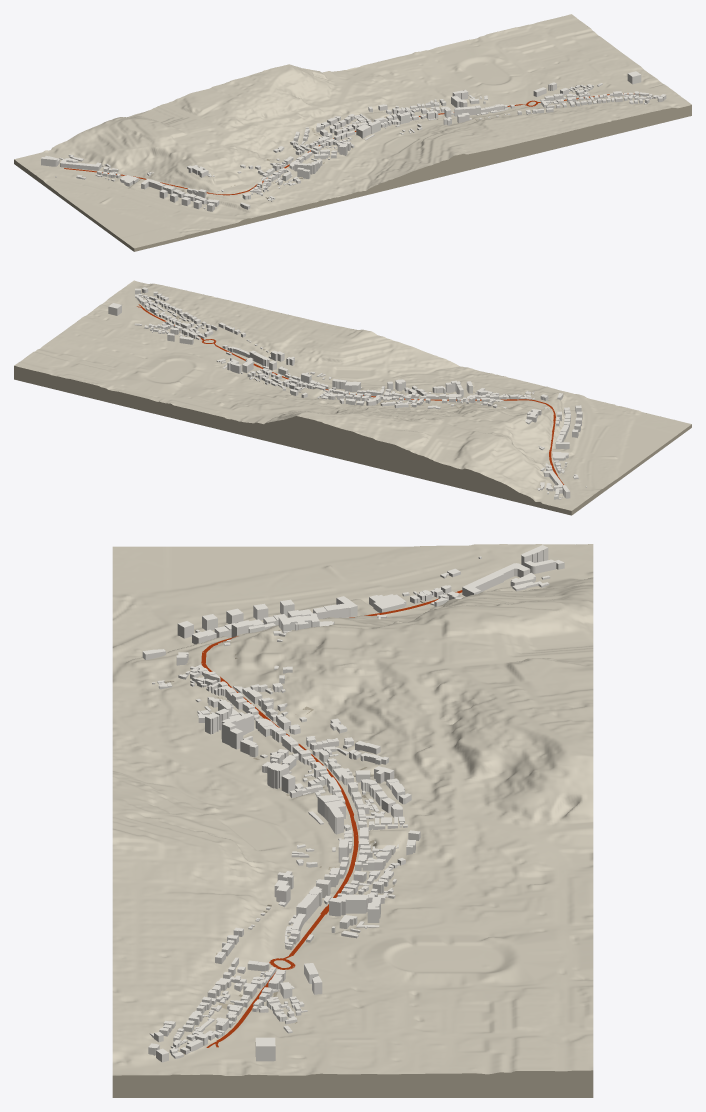
File: rua-do-brasil.glb
3 renders of one model, top to bottom at view 1: azimuth 30°, elevation 25°; view 2: azimuth 150°, elevation 25°; view 3: azimuth 270°, elevation 25°, orthographic. The views are drawn at different scales.
Visible parts, largest first — view 1: Terreno, Edif_medida, Base; view 2: Terreno, Base, Edif_medida, Via; view 3: Terreno, Edif_medida, Base, Via.
Part boxes in pixels (left/top/right/bottom): Terreno: left=14, top=14, right=691, bottom=248; Edif_medida: left=41, top=71, right=666, bottom=211; Base: left=14, top=105, right=691, bottom=251; Terreno: left=14, top=280, right=691, bottom=510; Base: left=14, top=365, right=691, bottom=515; Edif_medida: left=108, top=287, right=586, bottom=499; Via: left=137, top=304, right=563, bottom=484; Terreno: left=112, top=544, right=593, bottom=1075; Edif_medida: left=142, top=545, right=564, bottom=1062; Base: left=112, top=1070, right=593, bottom=1097; Via: left=201, top=590, right=462, bottom=1047.
Size of the model in its own units: 2050 by 115 by 765.
